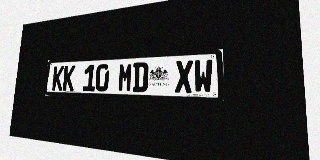0: (95, 64, 109, 91)
1: (82, 64, 96, 91)
D: (132, 62, 148, 92)
K: (62, 65, 75, 91), (52, 66, 64, 91)
M: (118, 63, 133, 92)
W: (193, 59, 213, 93)
X: (175, 60, 193, 93)
